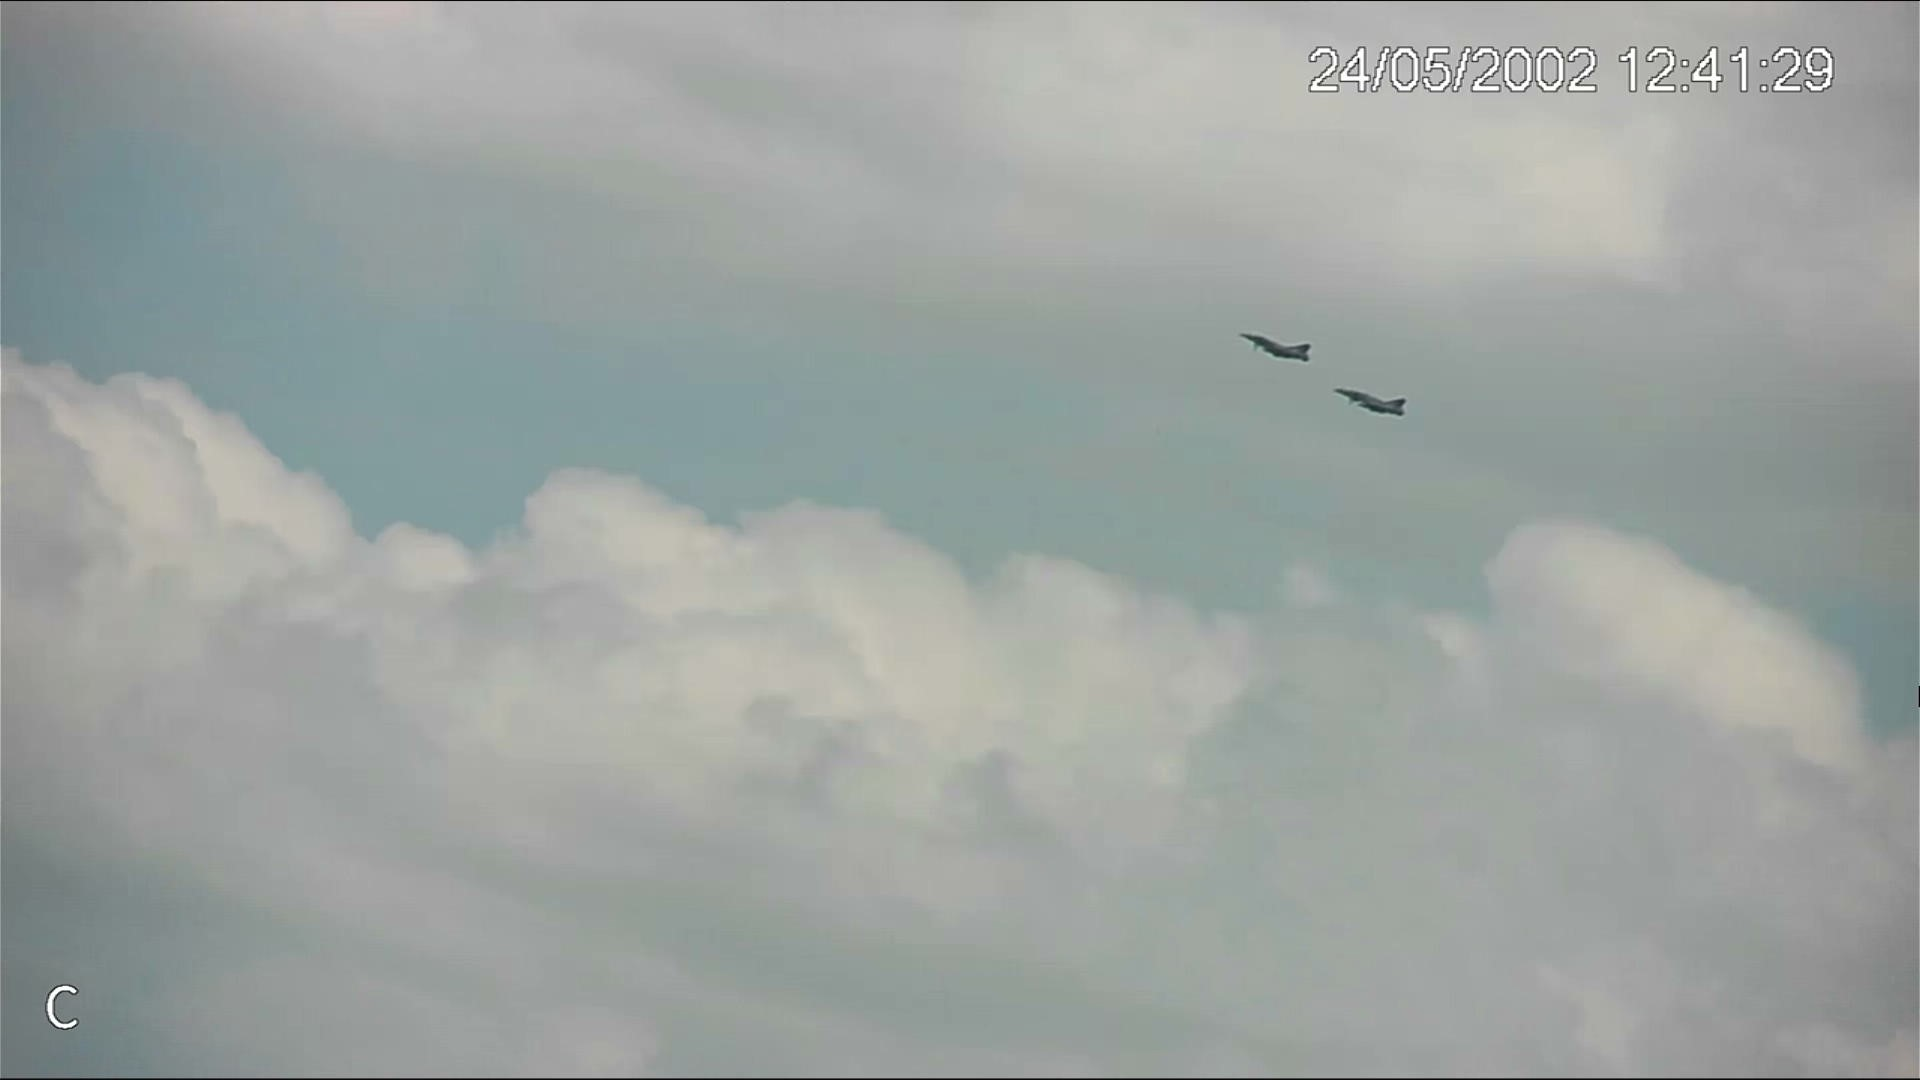SU_30: (1329, 385, 1408, 419), (1240, 332, 1312, 365)
